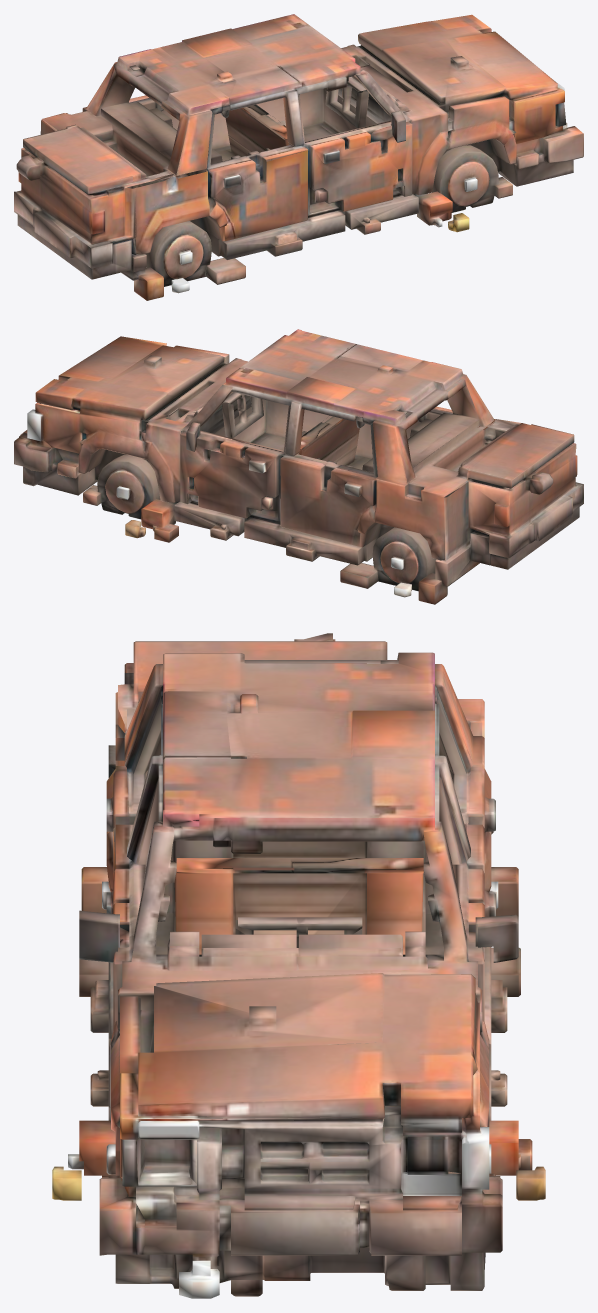
The model's file is car_wreck.glb.
3 views of the same model, one above another, from view 1: azimuth 30°, elevation 25°; view 2: azimuth 150°, elevation 25°; view 3: azimuth 270°, elevation 25° (orthographic). The views are drawn at different scales.
Parts seen in each view (by area): view 1: tripo_node_65df1ccd-be5d-4b57-841e-61a36a4c251e; view 2: tripo_node_65df1ccd-be5d-4b57-841e-61a36a4c251e; view 3: tripo_node_65df1ccd-be5d-4b57-841e-61a36a4c251e.
Part boxes in pixels (<box>): tripo_node_65df1ccd-be5d-4b57-841e-61a36a4c251e: <box>14,14,583,300</box>; tripo_node_65df1ccd-be5d-4b57-841e-61a36a4c251e: <box>14,329,583,604</box>; tripo_node_65df1ccd-be5d-4b57-841e-61a36a4c251e: <box>52,633,545,1298</box>.
Size of the model in its own units: 1 by 0.3053 by 0.4266.
1 material, 1 textured.
